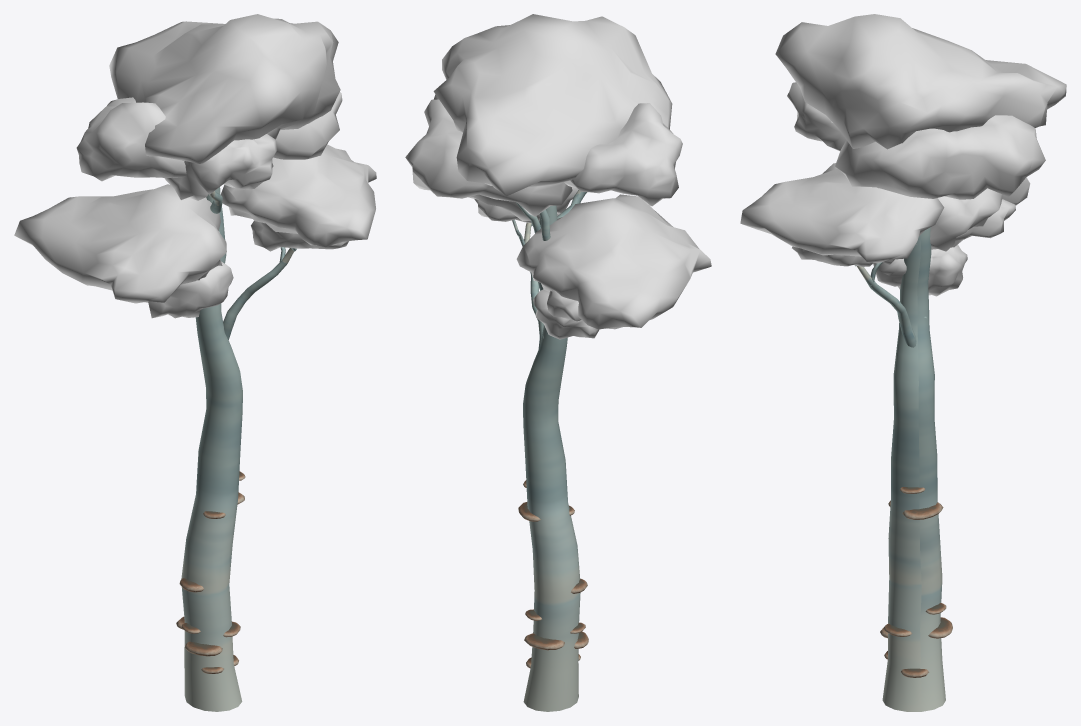
Rendered from tree_02_transparent.fbx.
3 renders of one model, left to right at view 1: azimuth 30°, elevation 25°; view 2: azimuth 150°, elevation 25°; view 3: azimuth 270°, elevation 25°, orthographic. The views are drawn at different scales.
Parts seen in each view (by area): view 1: Tree_LOD0; view 2: Tree_LOD0; view 3: Tree_LOD0.
Part boxes in pixels (bbox=[...]): Tree_LOD0: bbox=[14, 14, 376, 711]; Tree_LOD0: bbox=[405, 14, 711, 711]; Tree_LOD0: bbox=[740, 14, 1066, 711].
Size of what is drawn, in the model's own units: 753 by 1715 by 737.
